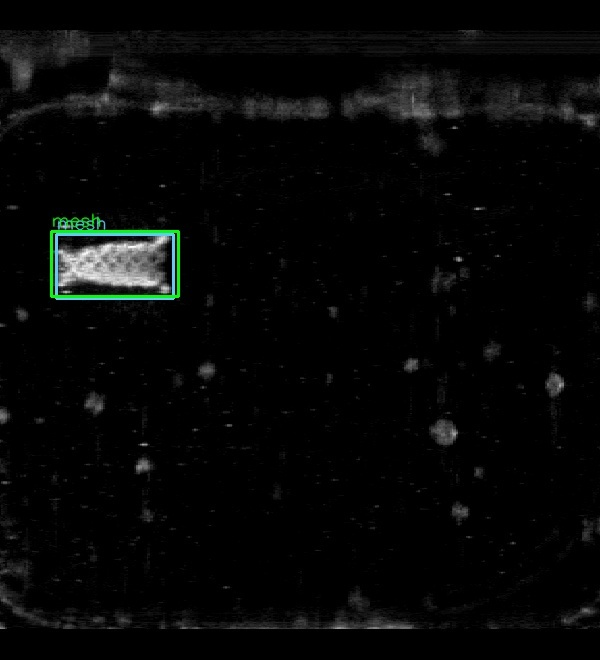mesh: (56, 234, 173, 298)
